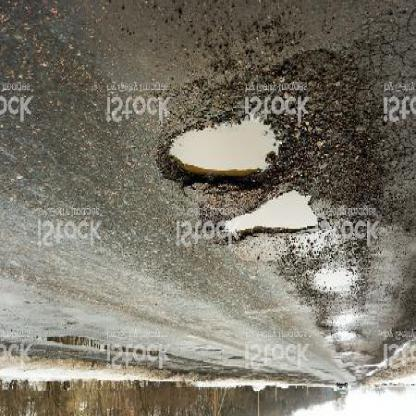pothole: (154, 106, 304, 198), (217, 192, 322, 248), (310, 266, 357, 299), (318, 314, 359, 334), (325, 334, 359, 348)
